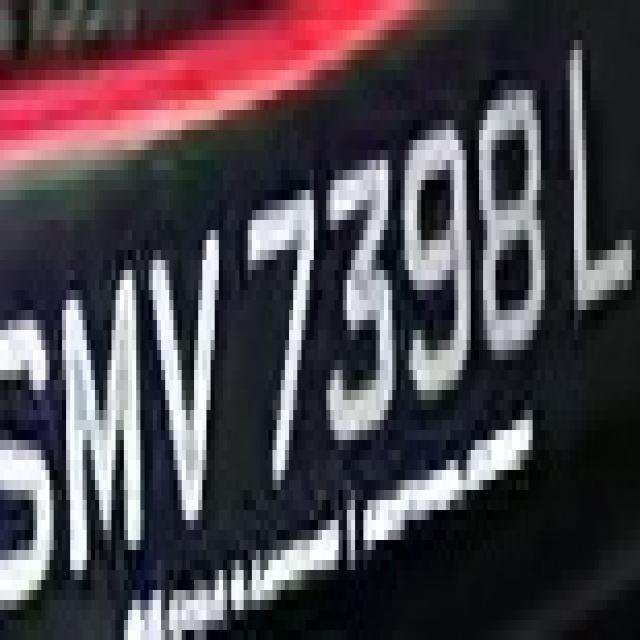3: (310, 130, 400, 460)
7: (235, 150, 314, 530)
8: (475, 70, 549, 380)
9: (396, 110, 479, 420)
L: (553, 40, 640, 360)
M: (54, 240, 144, 590)
S: (0, 270, 58, 600)
V: (137, 200, 236, 570)
